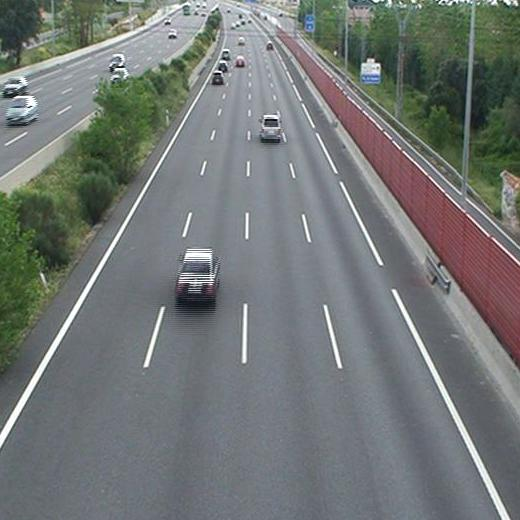car: (176, 249, 219, 298), (261, 116, 280, 139), (212, 71, 223, 82), (235, 56, 244, 65), (217, 61, 226, 70), (221, 49, 230, 58)
